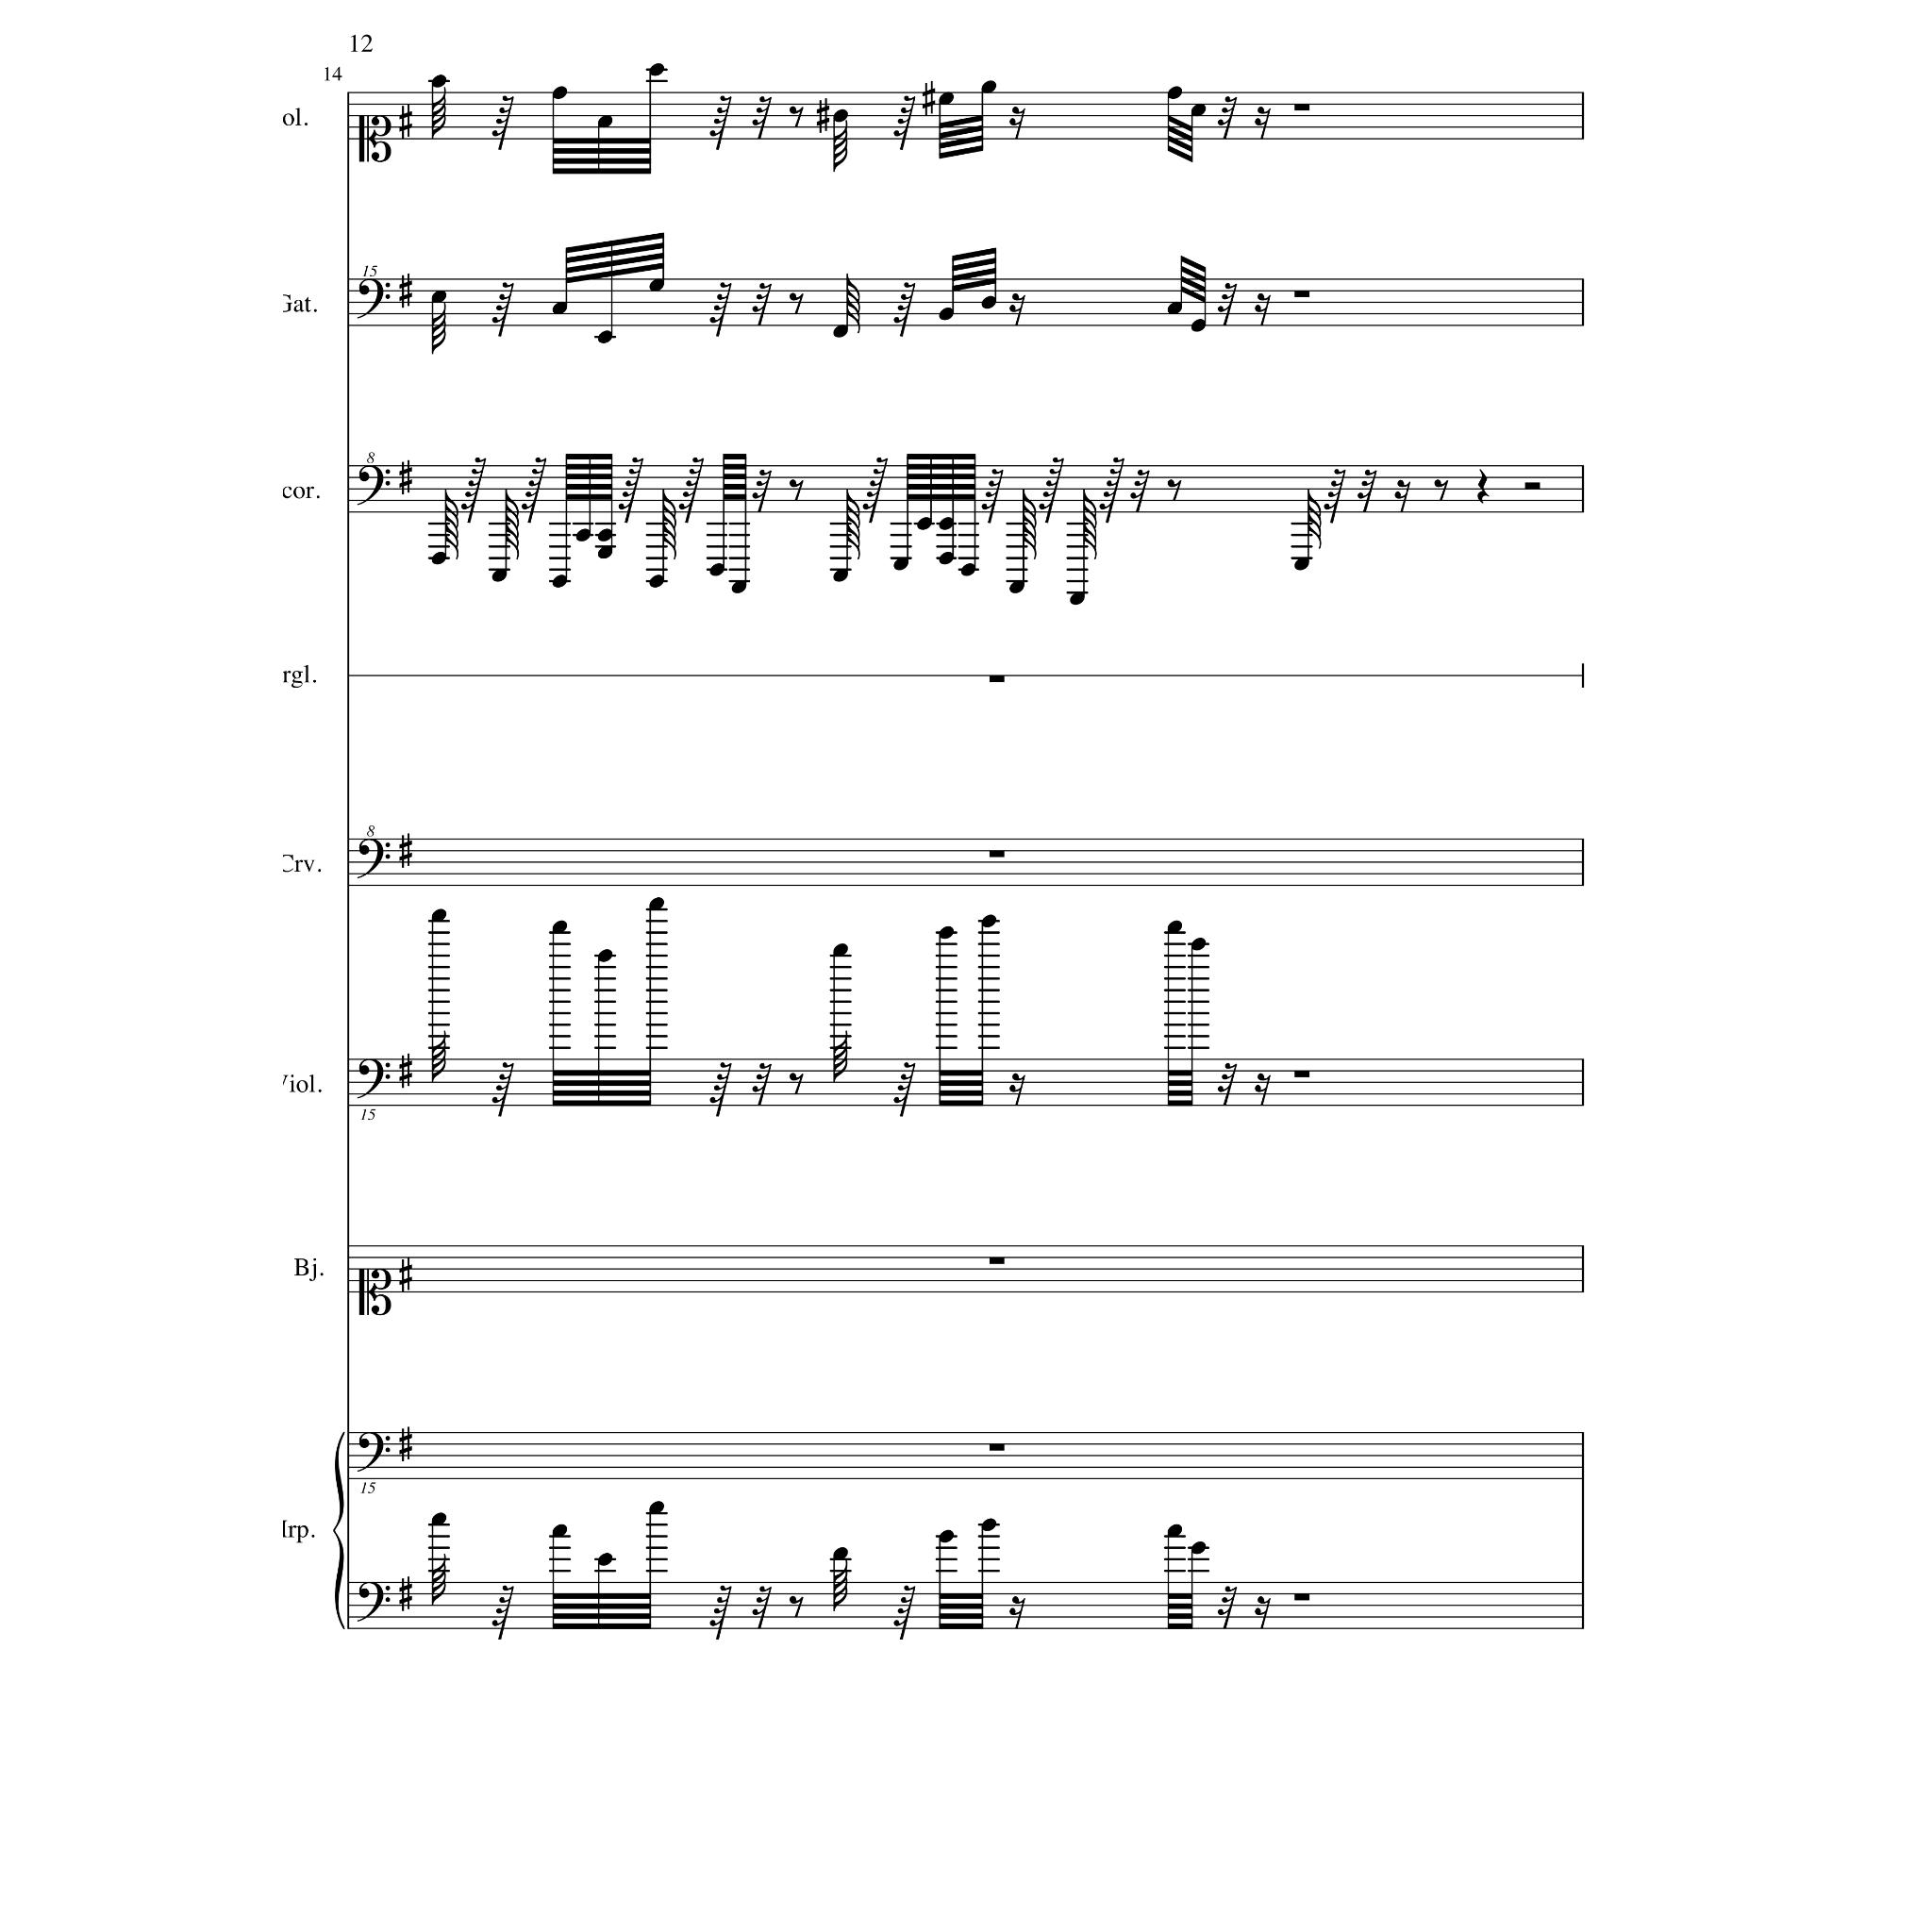brace: (333, 1431, 345, 1629)
fClef: (357, 465, 391, 506), (357, 839, 391, 879), (357, 1431, 391, 1472), (357, 1582, 391, 1622), (357, 280, 391, 318), (357, 1060, 391, 1099)
flag128thUp: (506, 488, 520, 559), (663, 488, 678, 559), (1023, 488, 1035, 559), (1085, 488, 1097, 559), (446, 488, 458, 559), (847, 488, 860, 559)
flag64thDown: (833, 1559, 847, 1612), (432, 1030, 446, 1083), (432, 1553, 446, 1606), (833, 1030, 847, 1083), (432, 87, 446, 140), (833, 120, 847, 173), (432, 303, 446, 354)
flag64thUp: (1307, 490, 1322, 550), (847, 274, 860, 334)
noteheadBlack: (1008, 580, 1024, 594), (1166, 87, 1182, 101), (1166, 920, 1182, 934), (1069, 593, 1085, 607), (916, 517, 932, 531), (938, 92, 954, 106), (893, 557, 909, 571), (961, 563, 977, 577), (980, 295, 996, 310), (980, 915, 996, 929), (980, 1518, 996, 1532), (938, 552, 954, 566), (938, 517, 954, 531), (1191, 318, 1207, 333), (1191, 1541, 1207, 1555), (1293, 557, 1309, 571), (575, 529, 591, 543), (596, 115, 612, 129), (596, 529, 612, 543), (596, 948, 612, 962), (552, 87, 568, 101), (552, 920, 568, 934), (430, 74, 446, 88), (430, 290, 446, 304), (430, 552, 446, 566), (731, 580, 747, 594), (833, 943, 849, 957), (833, 1546, 849, 1560), (649, 897, 665, 911), (649, 280, 665, 294), (649, 1500, 665, 1514), (709, 563, 725, 577), (1166, 303, 1182, 315), (1166, 1525, 1182, 1537), (980, 81, 996, 94), (938, 308, 954, 320), (938, 927, 954, 939), (938, 1530, 954, 1543), (1191, 938, 1207, 950), (1191, 104, 1207, 117), (492, 570, 508, 582), (596, 547, 612, 559), (596, 1553, 612, 1566), (552, 303, 568, 315), (552, 575, 568, 587), (552, 1525, 568, 1537), (430, 909, 446, 922), (430, 1513, 446, 1525), (596, 331, 612, 343), (833, 326, 849, 338), (833, 570, 849, 582), (833, 110, 849, 122), (649, 64, 665, 76), (649, 575, 665, 587)
rest16th: (1008, 1596, 1026, 1629), (1008, 294, 1026, 327), (1394, 479, 1412, 513), (1254, 1596, 1272, 1629), (1254, 294, 1272, 327), (1008, 1074, 1026, 1106), (1008, 108, 1026, 140), (1254, 108, 1272, 140), (1254, 1074, 1272, 1106)
rest8th: (1433, 479, 1449, 502), (1168, 479, 1182, 502), (789, 106, 803, 129), (789, 292, 803, 315), (789, 479, 803, 502), (789, 1072, 803, 1095), (789, 1596, 803, 1617)
restHalf: (1523, 481, 1539, 490)
restQuarter: (1477, 469, 1490, 504)
restWhole: (1293, 104, 1309, 111), (1293, 290, 1309, 297), (1293, 1070, 1309, 1077), (1293, 1594, 1309, 1601), (989, 676, 1005, 683), (989, 851, 1005, 858), (989, 1258, 1005, 1265), (989, 1444, 1005, 1451)
